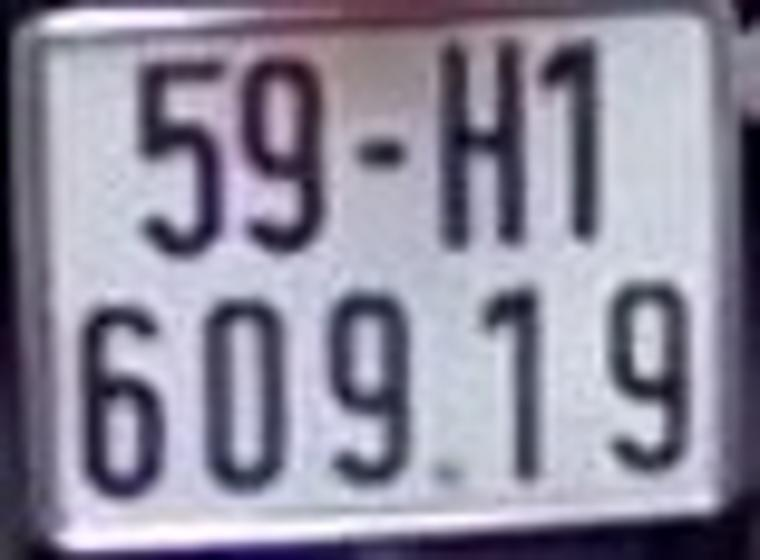-: (355, 138, 403, 168)
.: (434, 458, 463, 484)
0: (199, 299, 287, 489)
1: (541, 39, 601, 243), (485, 288, 547, 480)
5: (136, 56, 226, 254)
6: (80, 307, 168, 498)
9: (238, 58, 329, 249), (325, 290, 414, 479), (609, 284, 693, 471)
H: (435, 35, 528, 247)
